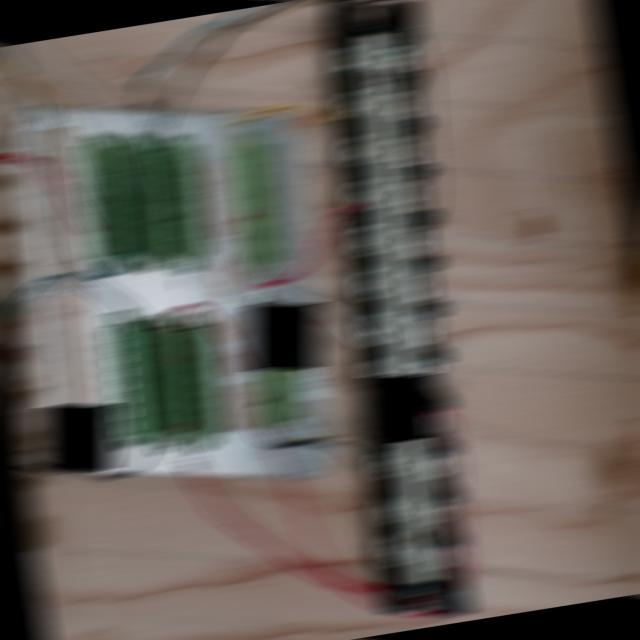Flathead_Block: (326, 0, 474, 622)
Terminal_1: (232, 140, 278, 266), (250, 304, 295, 430)
Terminal_2: (154, 141, 200, 263), (134, 326, 181, 445), (116, 140, 161, 261), (78, 140, 123, 261), (172, 326, 217, 445)
